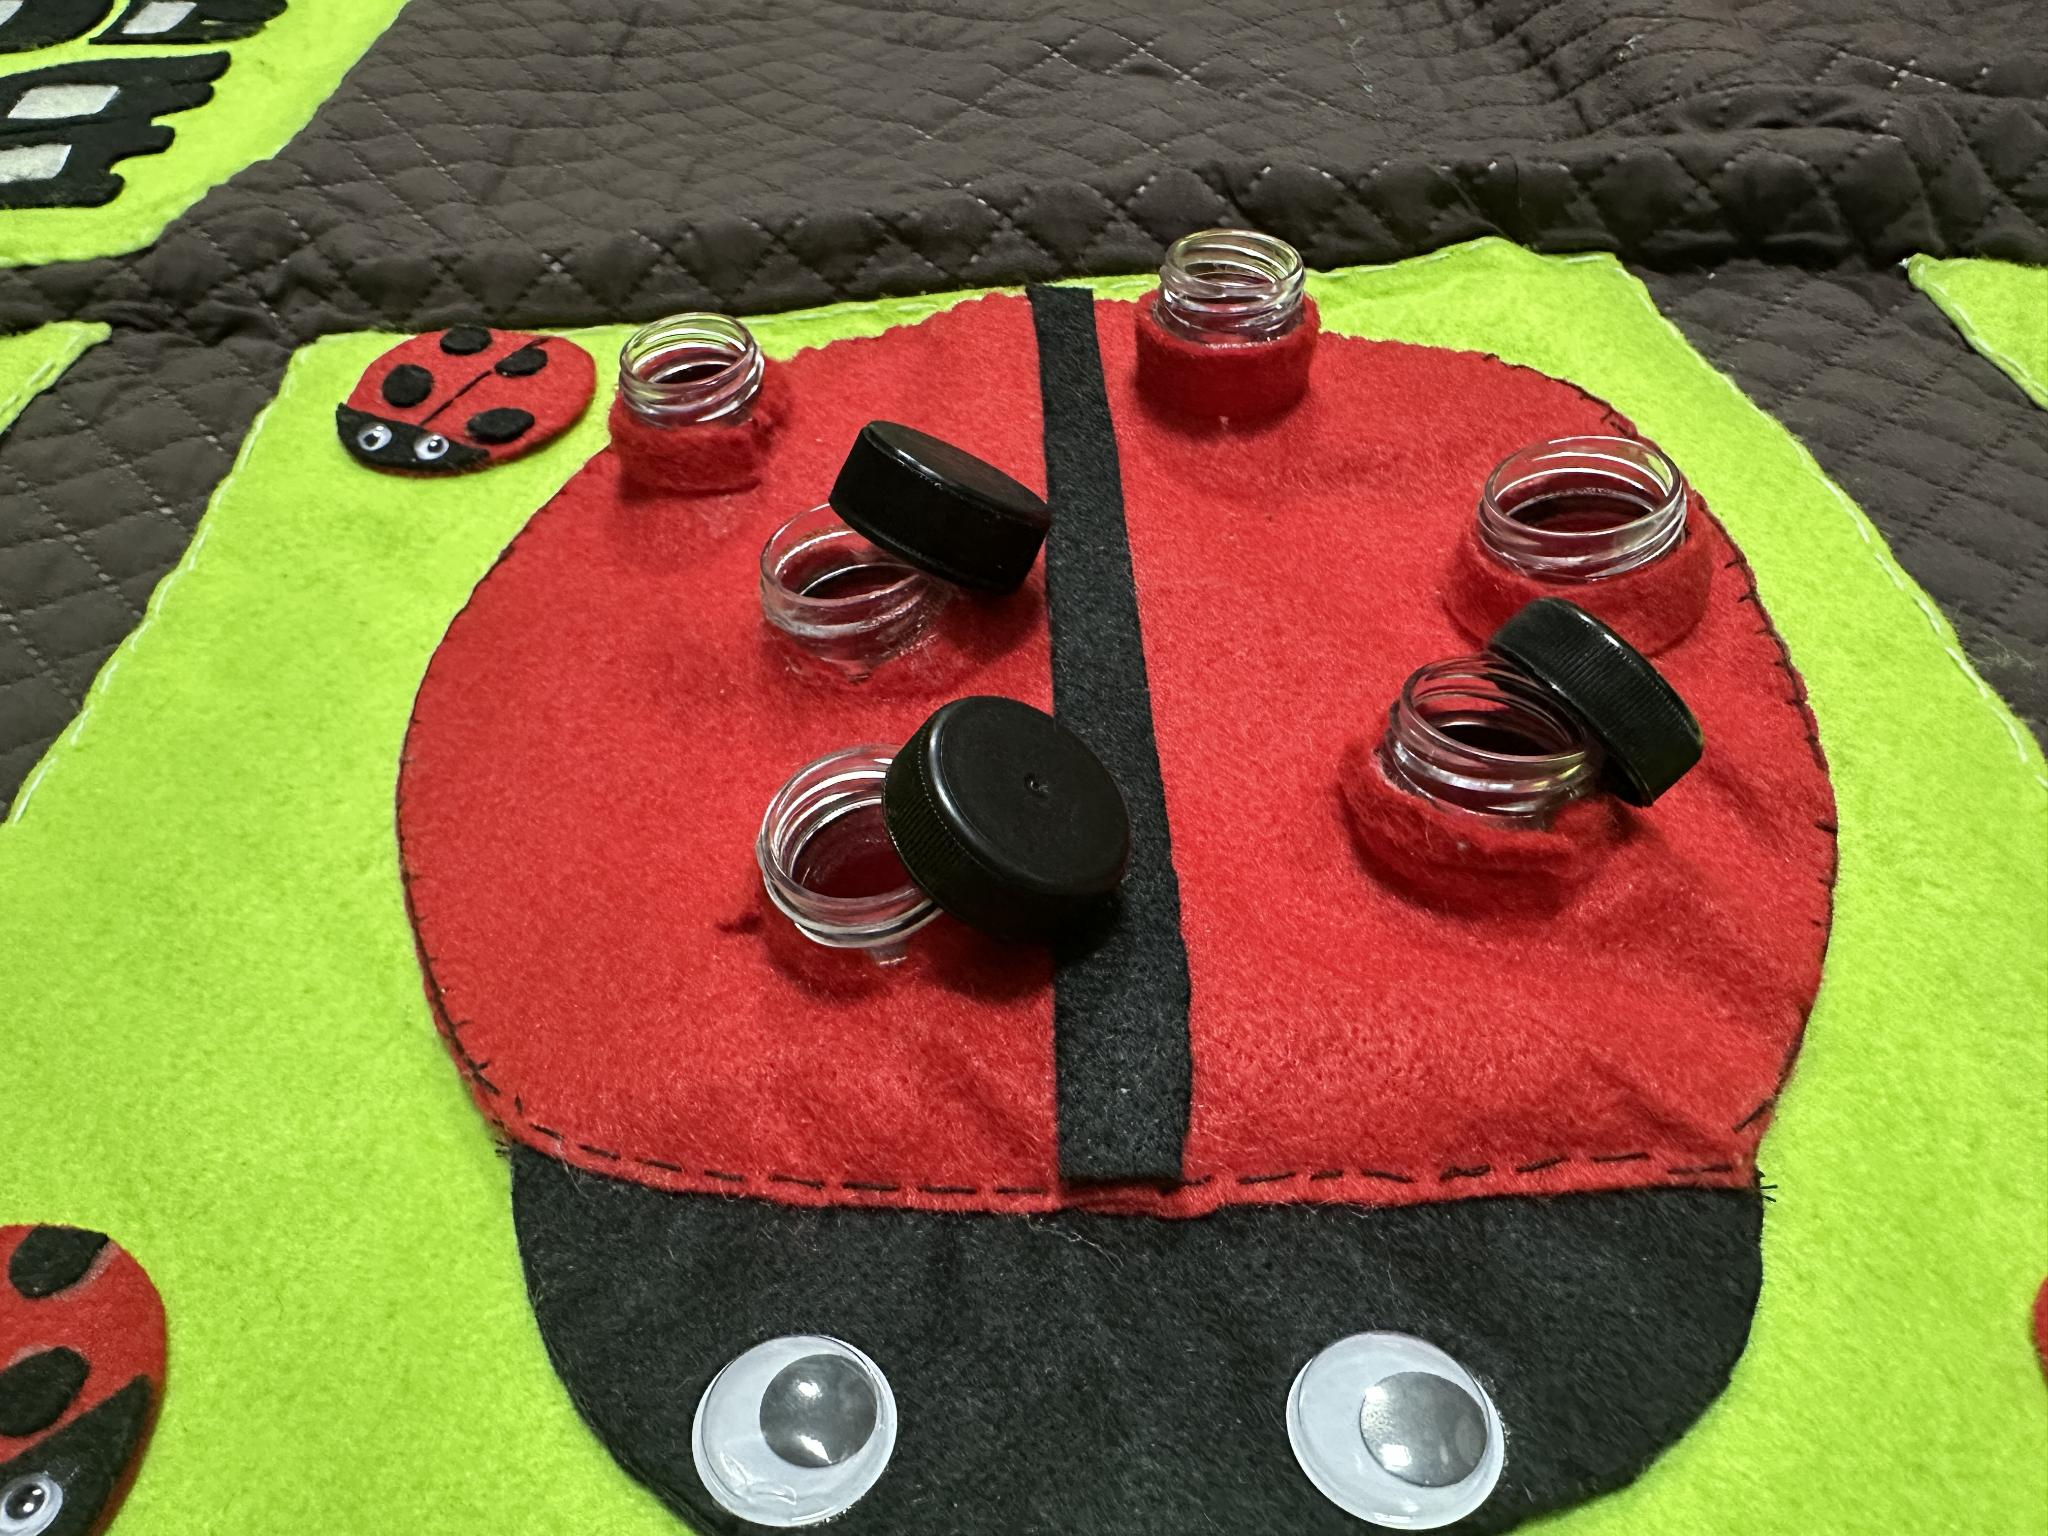cap_ng: (710, 681, 1159, 978), (1321, 587, 1727, 902), (719, 416, 1080, 679)
